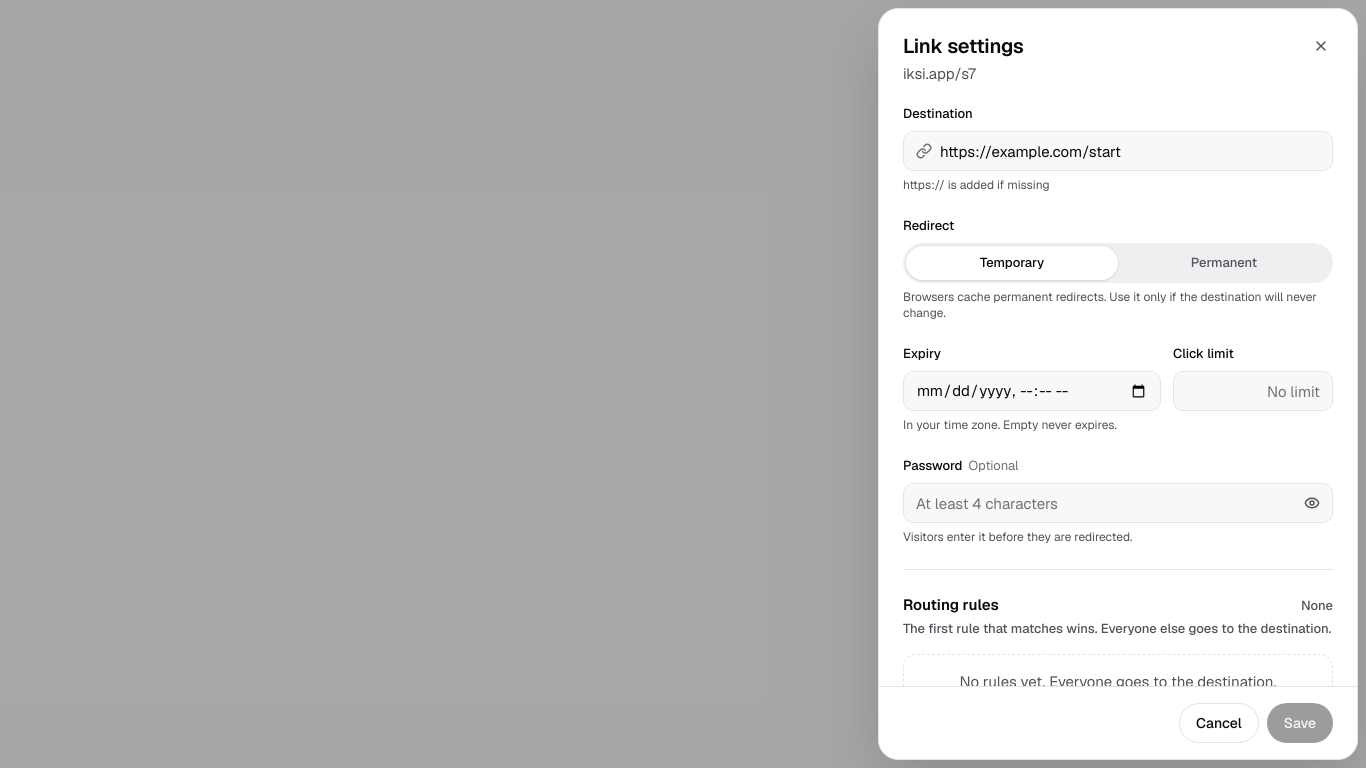
Test: LinkSettings › shows the server error and keeps the edits
Replace the text in the field labelled "Destination" with "https://example.com/new": x=1130, y=151 [940, 132, 1320, 170]
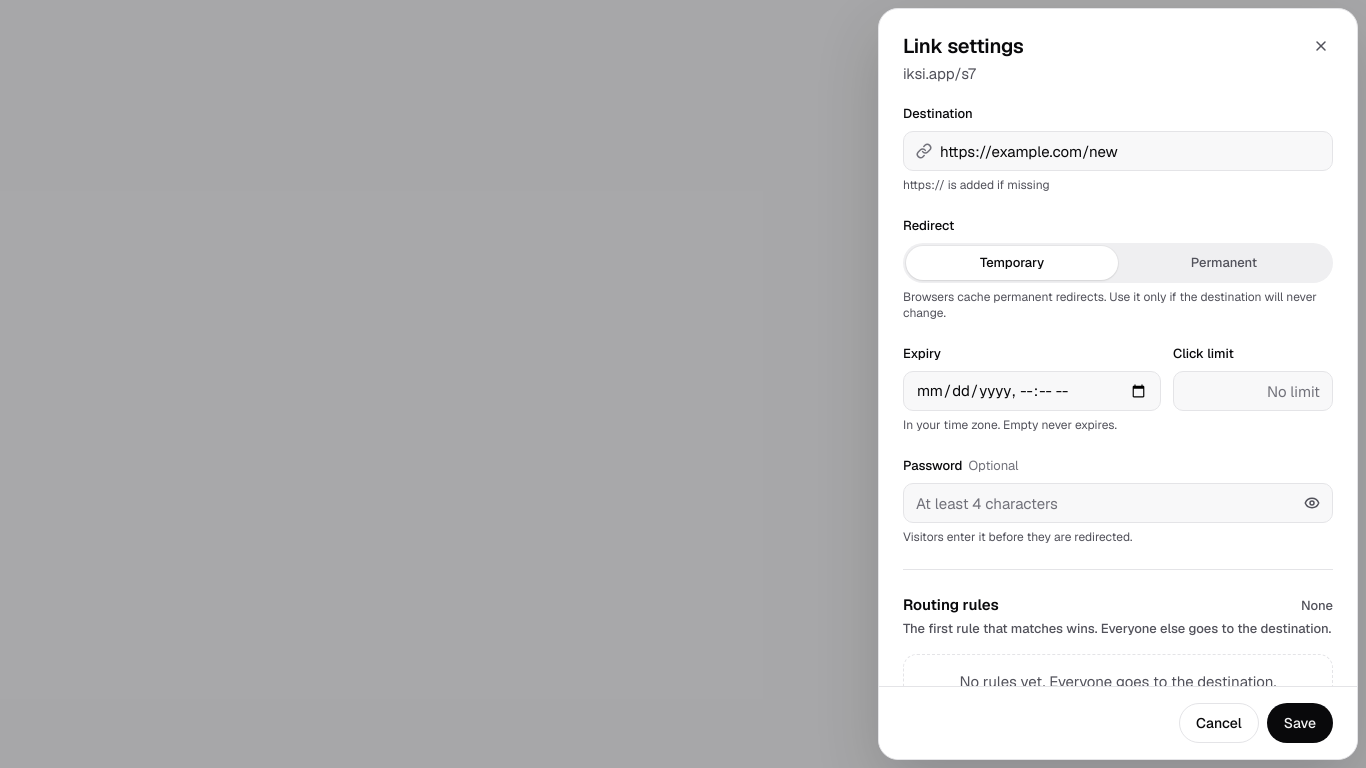
Click the button "Save": x=1300, y=723 [1267, 703, 1333, 743]
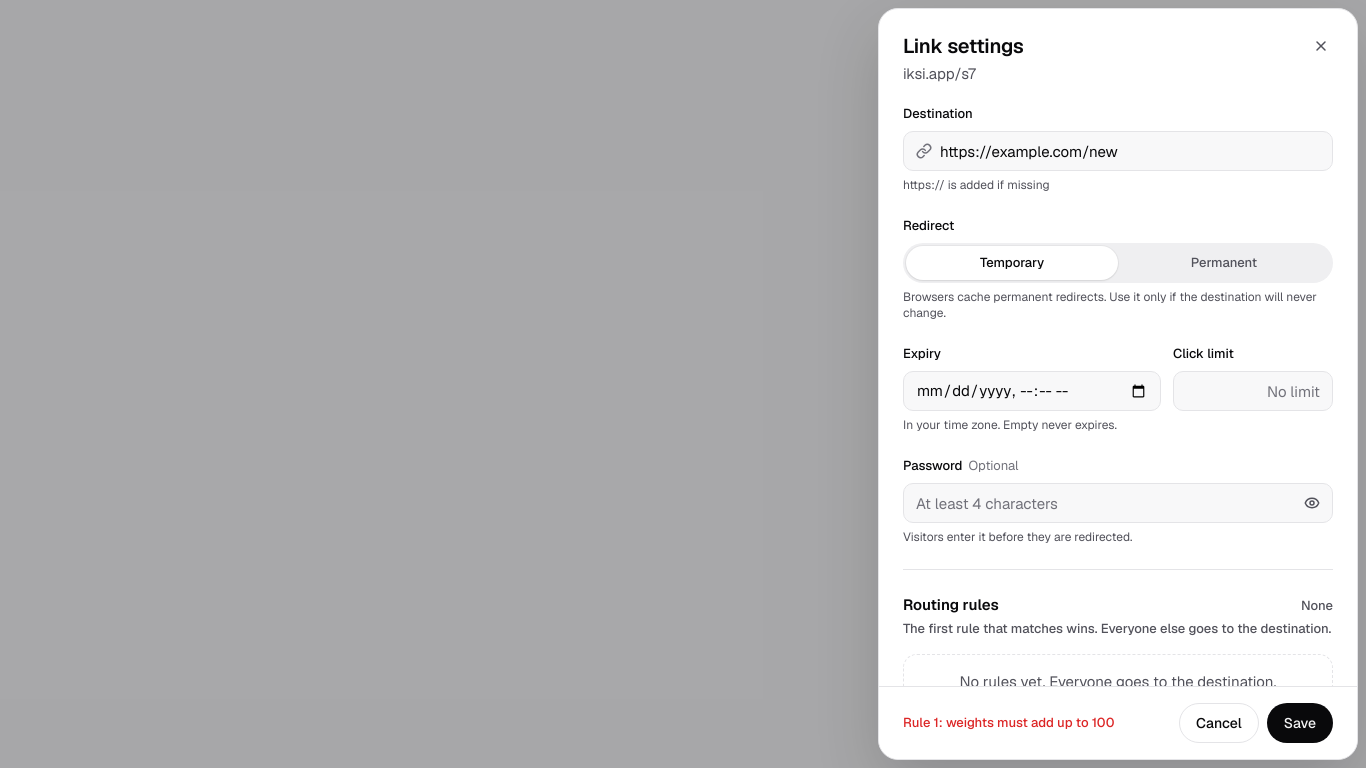
expect the button "Save" is enabled: met, box [1267, 703, 1333, 743]
expect the text "Rule 1: weights must add up to 100" is shown: met, box [903, 714, 1114, 732]
